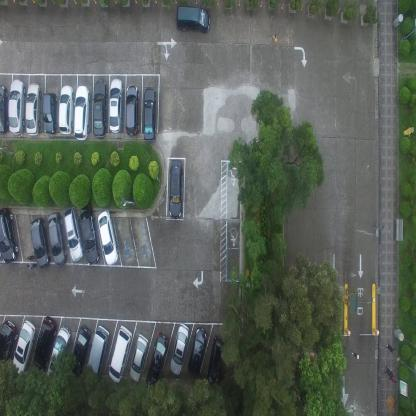car: (45, 324, 71, 380), (107, 324, 132, 382), (145, 331, 169, 390), (79, 200, 100, 264), (33, 312, 56, 370), (97, 207, 119, 266), (86, 324, 110, 377), (12, 318, 35, 373), (169, 321, 190, 377), (64, 206, 84, 263), (47, 211, 67, 267), (30, 216, 51, 269), (70, 324, 91, 376), (186, 327, 207, 378), (206, 334, 225, 389), (0, 206, 18, 264), (128, 333, 149, 382), (176, 4, 210, 34), (0, 320, 19, 372), (10, 76, 26, 135), (75, 83, 91, 141), (168, 158, 183, 219), (93, 78, 108, 137), (26, 81, 42, 136), (109, 77, 124, 133), (58, 84, 74, 136), (143, 86, 157, 142), (125, 85, 140, 137), (43, 90, 58, 134), (0, 83, 9, 135)
